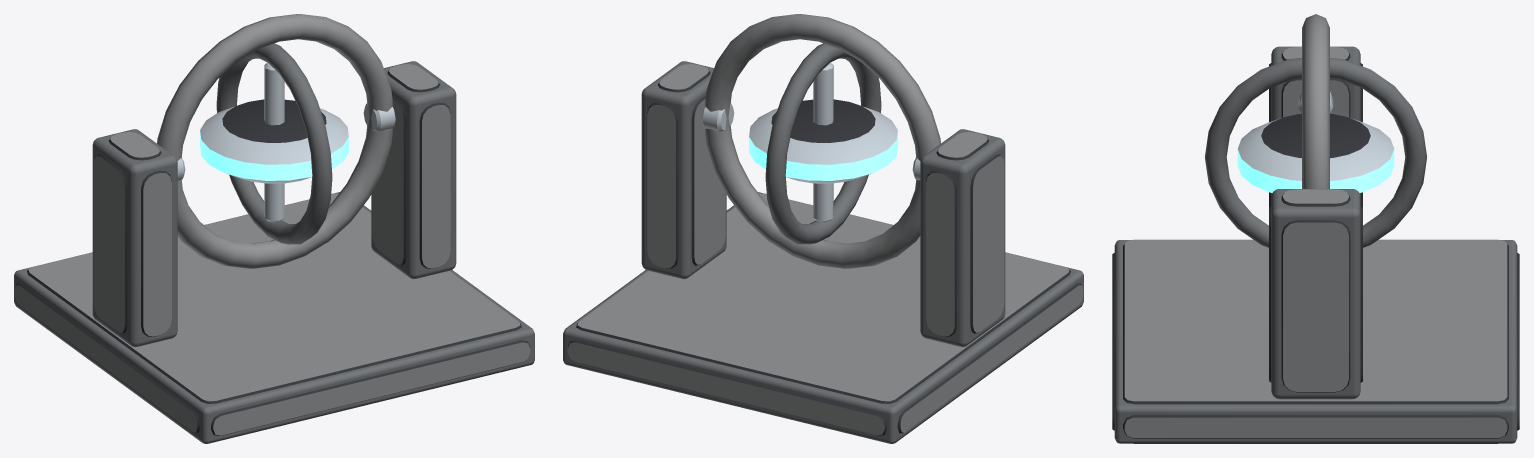
File: R4X_Gyroscope.glb
The picture shows the model from 3 angles, left to right: view 1: azimuth 30°, elevation 25°; view 2: azimuth 150°, elevation 25°; view 3: azimuth 270°, elevation 25°; orthographic projection. The views are drawn at different scales.
Parts seen in each view (by area): view 1: R4X_Gyroscope_Body, R4X_Gyroscope_RingOuter, R4X_Gyroscope_Rotor, R4X_Gyroscope_RingInner; view 2: R4X_Gyroscope_Body, R4X_Gyroscope_RingOuter, R4X_Gyroscope_Rotor, R4X_Gyroscope_RingInner; view 3: R4X_Gyroscope_Body, R4X_Gyroscope_RingInner, R4X_Gyroscope_Rotor, R4X_Gyroscope_RingOuter.
Boxes of the visible parts, left/top/right/bottom form: R4X_Gyroscope_Body: left=14, top=61, right=534, bottom=443; R4X_Gyroscope_RingOuter: left=157, top=14, right=392, bottom=268; R4X_Gyroscope_Rotor: left=200, top=62, right=348, bottom=222; R4X_Gyroscope_RingInner: left=216, top=43, right=332, bottom=244; R4X_Gyroscope_Body: left=563, top=61, right=1083, bottom=443; R4X_Gyroscope_RingOuter: left=705, top=14, right=940, bottom=268; R4X_Gyroscope_Rotor: left=749, top=62, right=897, bottom=222; R4X_Gyroscope_RingInner: left=765, top=43, right=881, bottom=244; R4X_Gyroscope_Body: left=1112, top=46, right=1519, bottom=443; R4X_Gyroscope_RingInner: left=1205, top=58, right=1426, bottom=247; R4X_Gyroscope_Rotor: left=1237, top=113, right=1394, bottom=192; R4X_Gyroscope_RingOuter: left=1302, top=14, right=1329, bottom=188.
Size of the model in its own units: 0.52 by 0.473 by 0.52.
